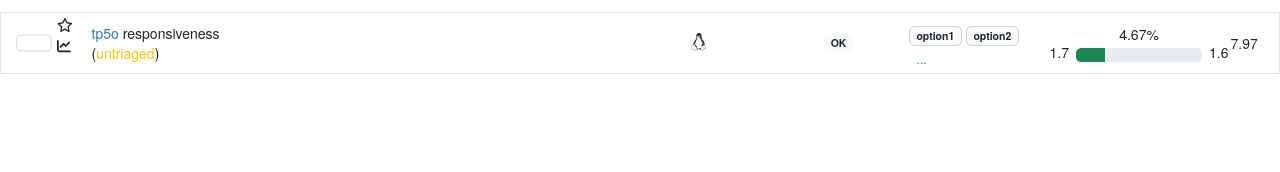
Scenario: Button '...' displays all options for an alert item
Check: the number of elements with test id "alert-option" is 2, box [909,26,962,46]; [966,26,1019,46]
Check: the text with test id "show-more-tags-options" reads "...", box [917,50,927,67]
Click the button with test id "show-more-tags-options" at x=922, y=59, box [909,46,935,73]
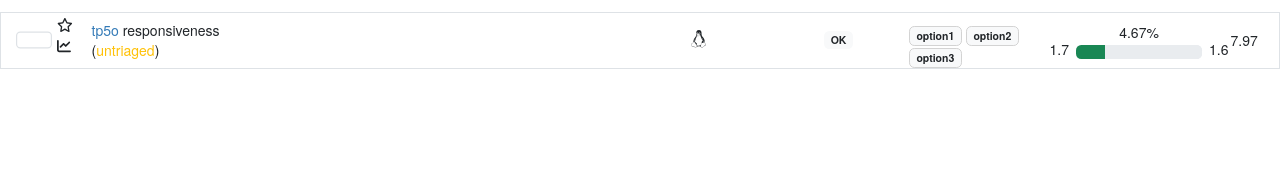
Check: the number of elements with test id "alert-option" is 3, box [909,26,962,46]; [966,26,1019,46]; [909,48,962,68]
